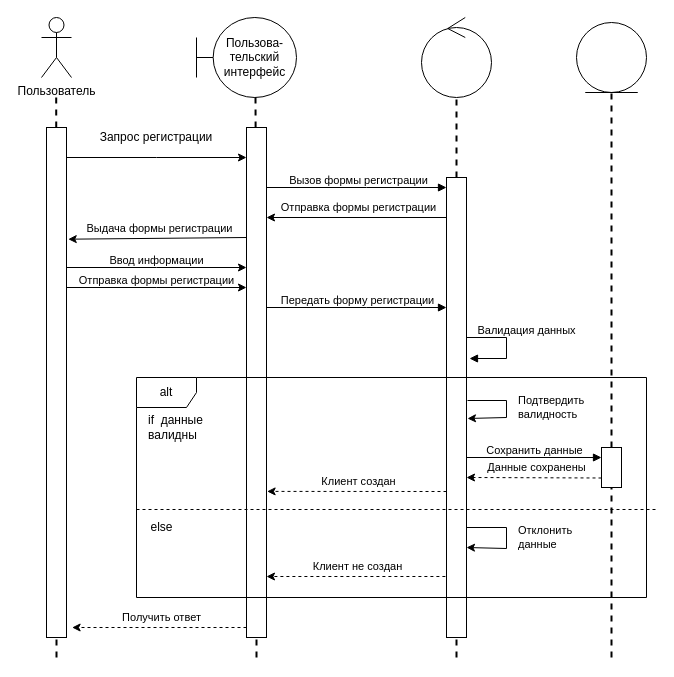
The diagram is 674 pixels wide and 677 high, and some of its shapes have lost their labels. The box of each missing label's shape, as (x1, y1, x2, y2) in pixels:
База данных: (576, 22, 646, 92)
Серверная часть: (420, 16, 492, 98)
